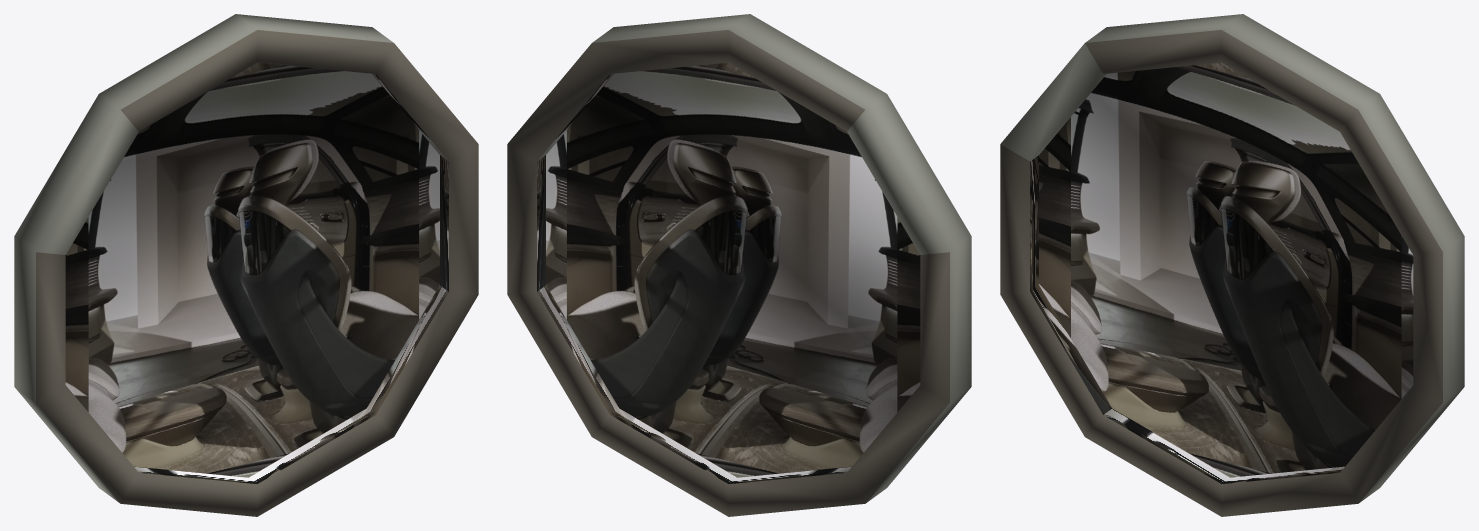
Rendered from Coin.fbx.
3 renders of one model, left to right at view 1: azimuth 30°, elevation 25°; view 2: azimuth 150°, elevation 25°; view 3: azimuth 330°, elevation 25°, orthographic.
Visible parts, largest first — view 1: Coin; view 2: Coin; view 3: Coin.
Boxes of the visible parts, left/top/right/bottom form: Coin: left=14, top=14, right=478, bottom=516; Coin: left=507, top=14, right=971, bottom=516; Coin: left=1000, top=14, right=1464, bottom=516.
Bounding box in the file's own units: 0.3563 × 0.0303 × 0.3746.
